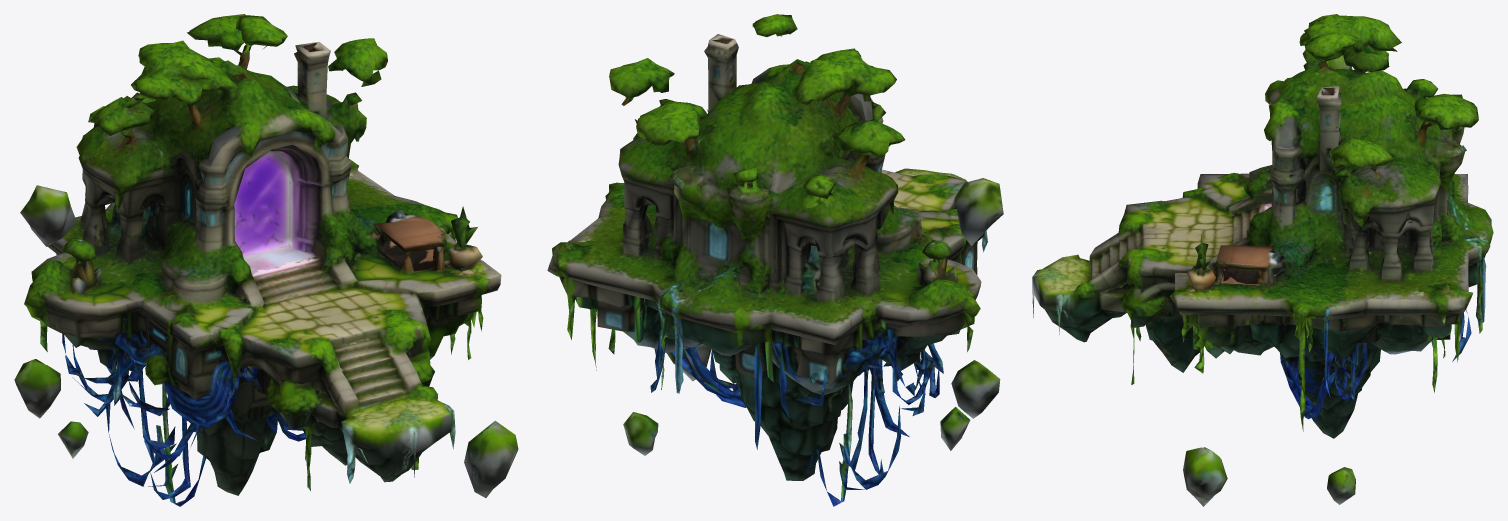
The model's file is Dungeon.glb.
3 views of the same model, side by side, from view 1: azimuth 30°, elevation 25°; view 2: azimuth 150°, elevation 25°; view 3: azimuth 270°, elevation 25° (orthographic). The views are drawn at different scales.
Parts seen in each view (by area): view 1: Mesh1.0; view 2: Mesh1.0; view 3: Mesh1.0.
Part boxes in pixels (x1,y1,x2,y2): Mesh1.0: (14, 14, 518, 506); Mesh1.0: (547, 14, 1003, 506); Mesh1.0: (1032, 14, 1493, 506).
Bounding box in the file's own units: 1.72 × 1.86 × 1.86.
1 material, 1 textured.
